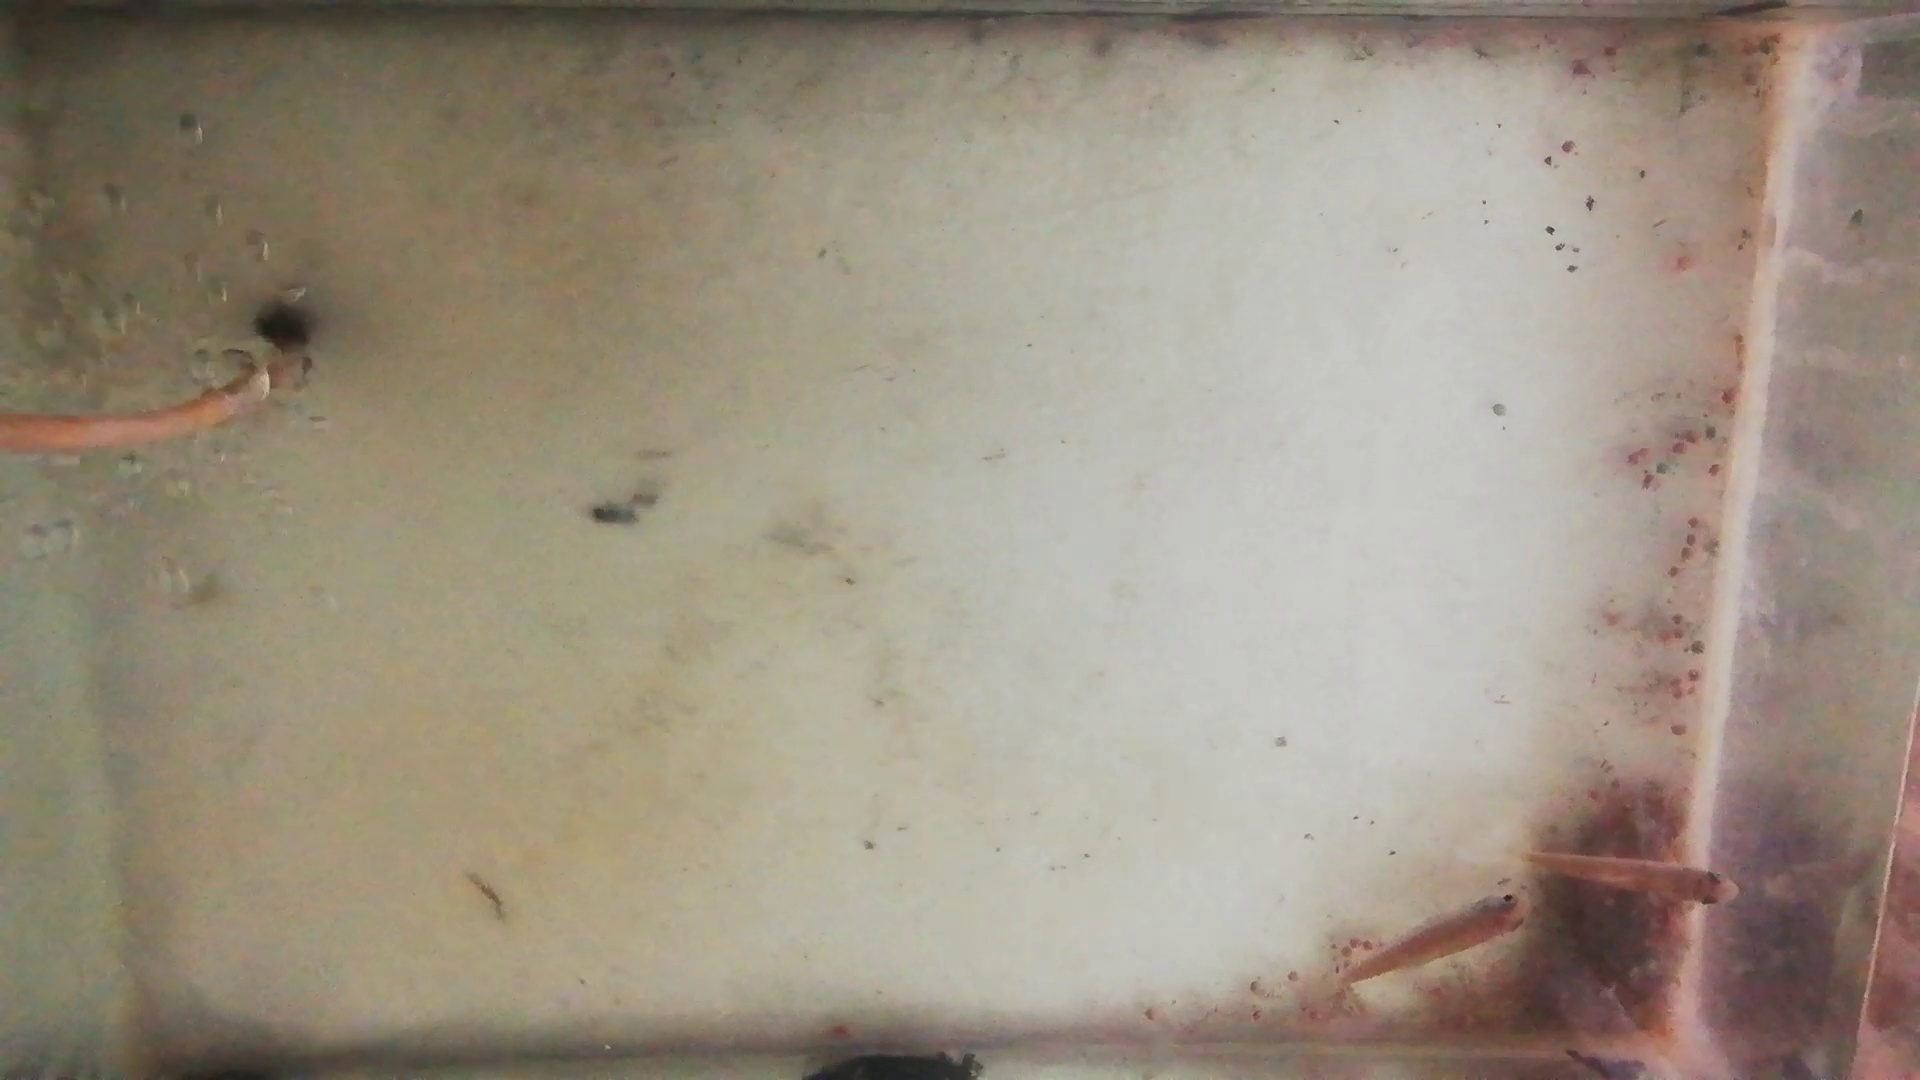fish: (1342, 893, 1531, 982), (1524, 851, 1735, 907)
